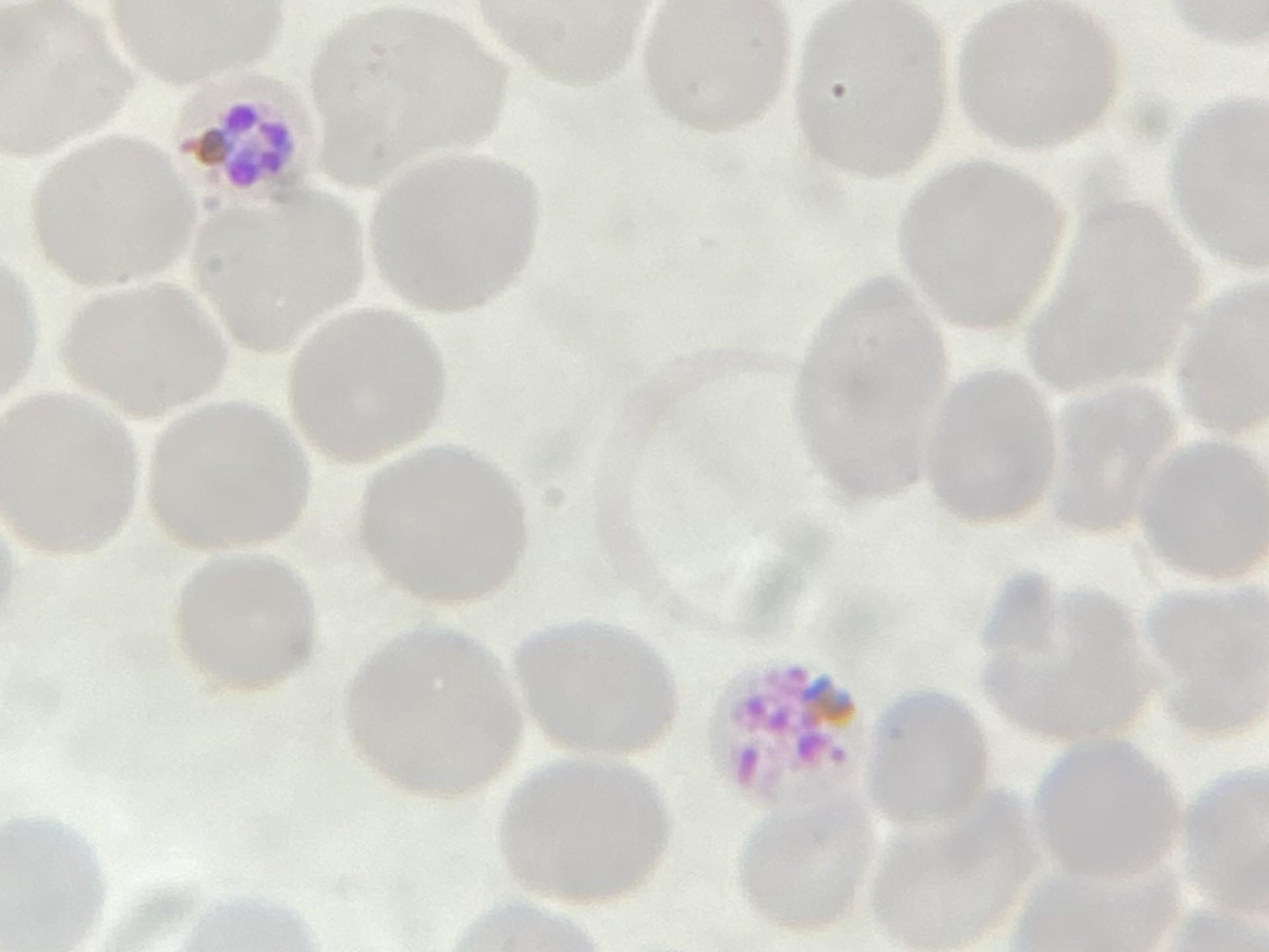Infected: (707, 660, 872, 823), (176, 67, 325, 215)
Uninfected: (313, 14, 508, 190), (1027, 195, 1193, 389), (800, 270, 940, 498), (194, 186, 373, 357), (339, 629, 517, 798), (983, 560, 1153, 736), (368, 148, 540, 317), (899, 164, 1059, 329), (498, 759, 673, 908), (802, 0, 946, 180), (875, 785, 1038, 943), (366, 446, 532, 599), (152, 402, 311, 558), (293, 309, 448, 467), (0, 3, 137, 171), (956, 0, 1110, 149), (35, 140, 187, 289), (0, 395, 138, 555), (513, 616, 671, 753), (921, 369, 1053, 529), (172, 554, 325, 692), (1040, 732, 1179, 883), (1049, 380, 1179, 536), (57, 292, 226, 411), (1150, 578, 1269, 745), (1137, 446, 1269, 593), (1168, 98, 1269, 285), (868, 695, 1000, 836), (646, 0, 786, 129), (738, 801, 865, 939), (1168, 287, 1269, 443)
